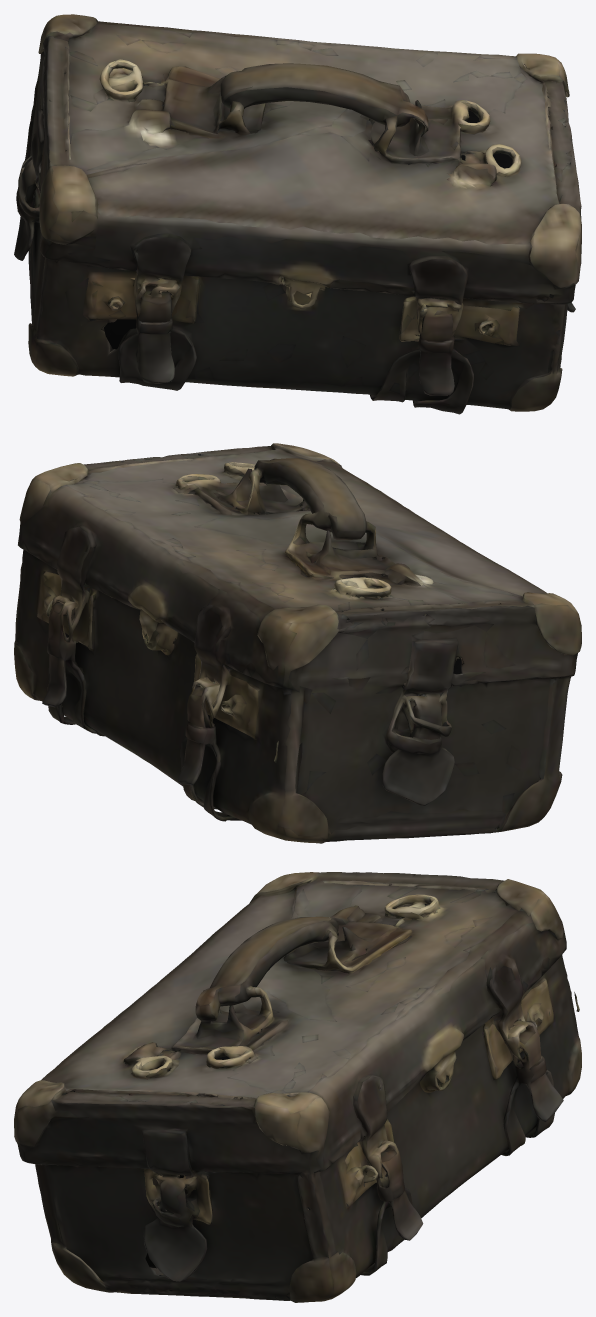
Rendered from obj014_leather_briefcase.glb.
3 renders of one model, top to bottom at view 1: azimuth 30°, elevation 25°; view 2: azimuth 150°, elevation 25°; view 3: azimuth 270°, elevation 25°, orthographic. The views are drawn at different scales.
Size of the model in its own units: 0.4652 by 0.2529 by 0.4449.
1 material, 1 textured.
